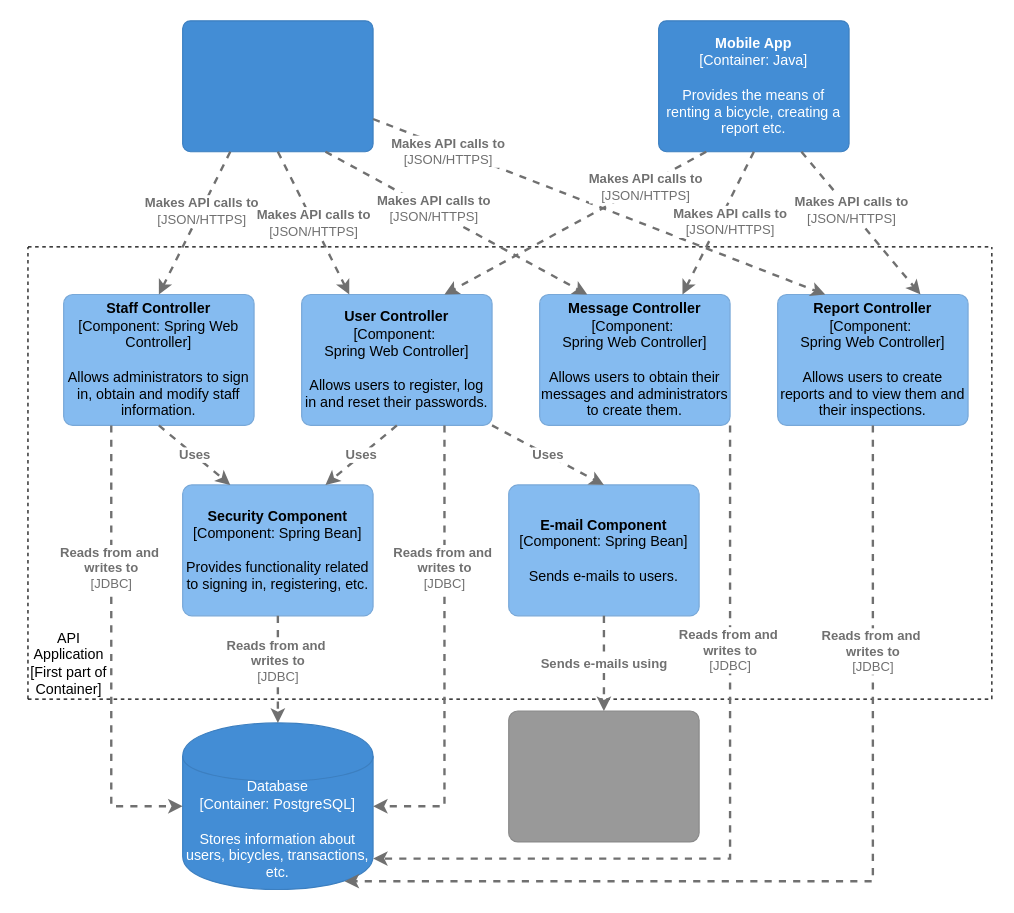
The diagram is 1014 pixels wide and 913 high, and some of its shapes have lost their labels. The shapes that lost their labels are listed below. From the top down, each one's box as (x1, y1, x2, y2) in pixels, then its label:
(181, 20, 373, 152): Desktop Application [Container: JavaFX ] Provides the means of administration.
(508, 710, 699, 842): E-mail System [Software System] The e-mail system.
